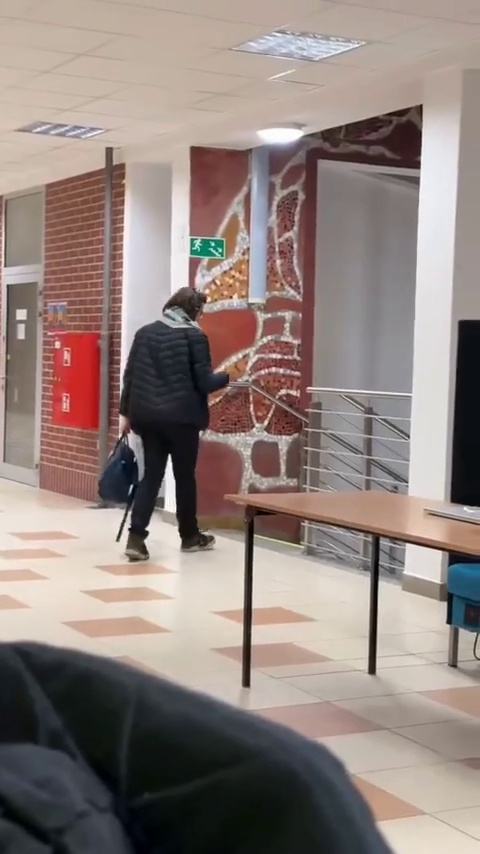no vest: (110, 284, 223, 553)
